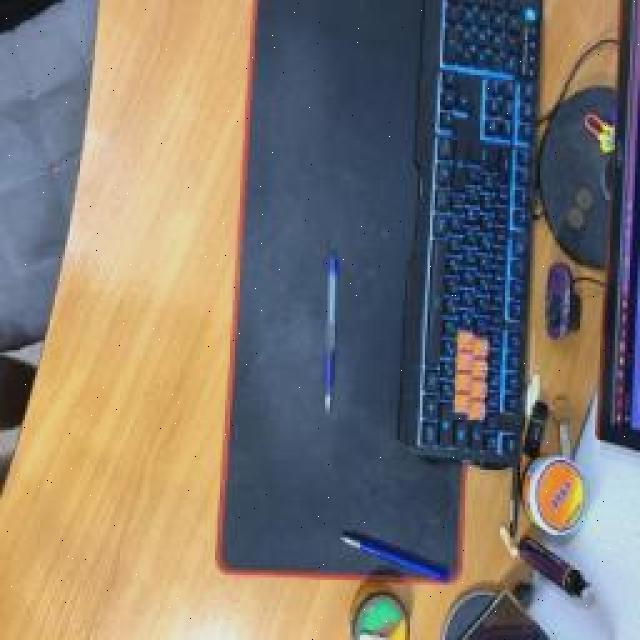pen: (320, 255, 340, 415)
